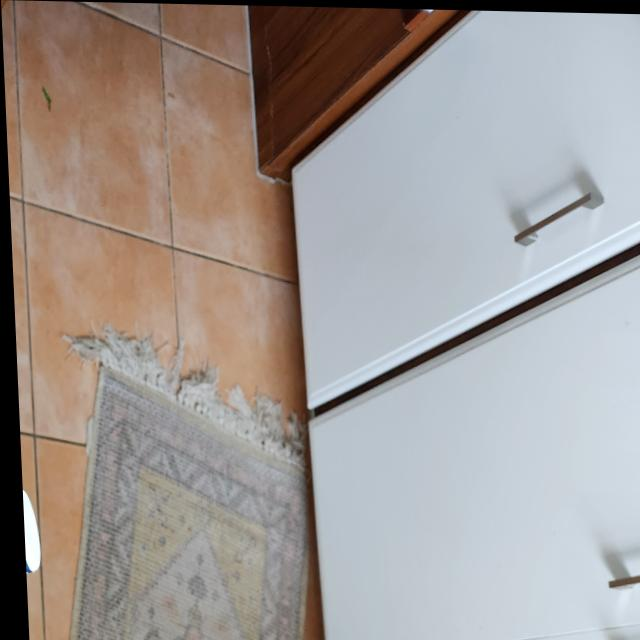buffalo sauce: (18, 490, 40, 640)
